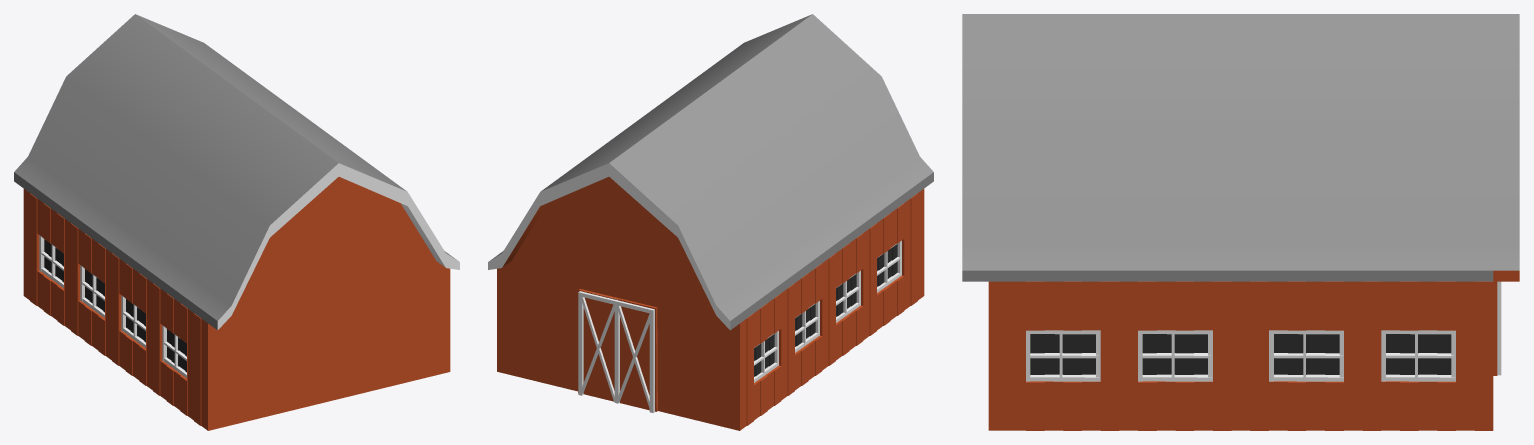
3 views of the same model, side by side, from view 1: azimuth 30°, elevation 25°; view 2: azimuth 150°, elevation 25°; view 3: azimuth 270°, elevation 25° (orthographic). The views are drawn at different scales.
Visible parts, largest first — view 1: Box095, Object003; view 2: Box095, Object003, Box076, Box080, Box077, Box079, Box081; view 3: Box095, Object004.
Boxes of the visible parts, box(x1,y1,x2,y2) form: Box095: box(14, 14, 459, 430); Object003: box(44, 239, 186, 372); Box095: box(488, 14, 933, 430); Object003: box(754, 244, 897, 376); Box076: box(649, 308, 654, 412); Box080: box(578, 291, 583, 395); Box077: box(614, 303, 619, 403); Box079: box(582, 297, 615, 401); Box081: box(618, 306, 651, 410); Box095: box(962, 14, 1519, 430); Object004: box(1030, 334, 1451, 374).
Size of the model in its own units: 274312 by 264705 by 397539.
